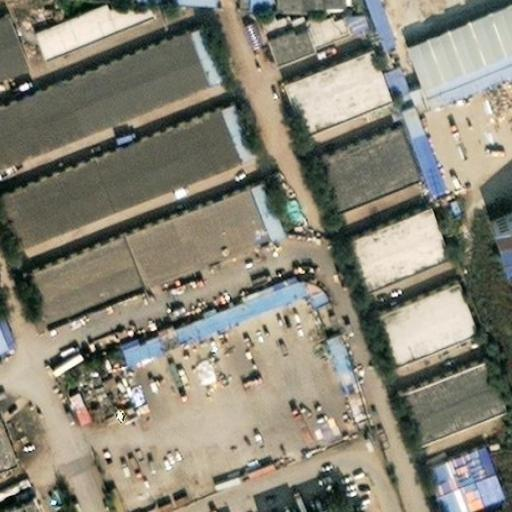building: (26, 169, 273, 313), (0, 91, 242, 236), (0, 17, 212, 156), (107, 260, 316, 352), (270, 36, 380, 124), (330, 195, 438, 280), (360, 269, 465, 353), (388, 348, 493, 431), (303, 116, 407, 196), (246, 2, 339, 54), (388, 93, 434, 183), (414, 433, 483, 481), (424, 465, 477, 511), (314, 321, 351, 381), (0, 8, 26, 76), (488, 207, 512, 268), (46, 342, 85, 374), (64, 384, 93, 423), (371, 59, 399, 96), (282, 192, 308, 225), (0, 417, 16, 467), (0, 312, 16, 354), (0, 494, 39, 511), (332, 3, 360, 26), (397, 75, 419, 103)
